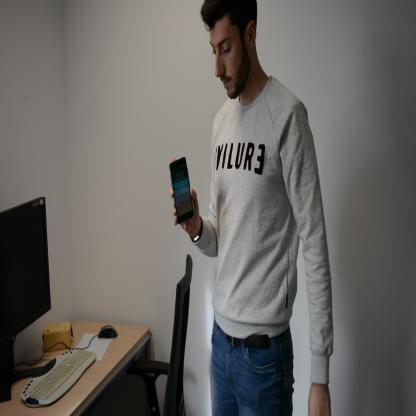smartphone: (168, 156, 194, 225)
